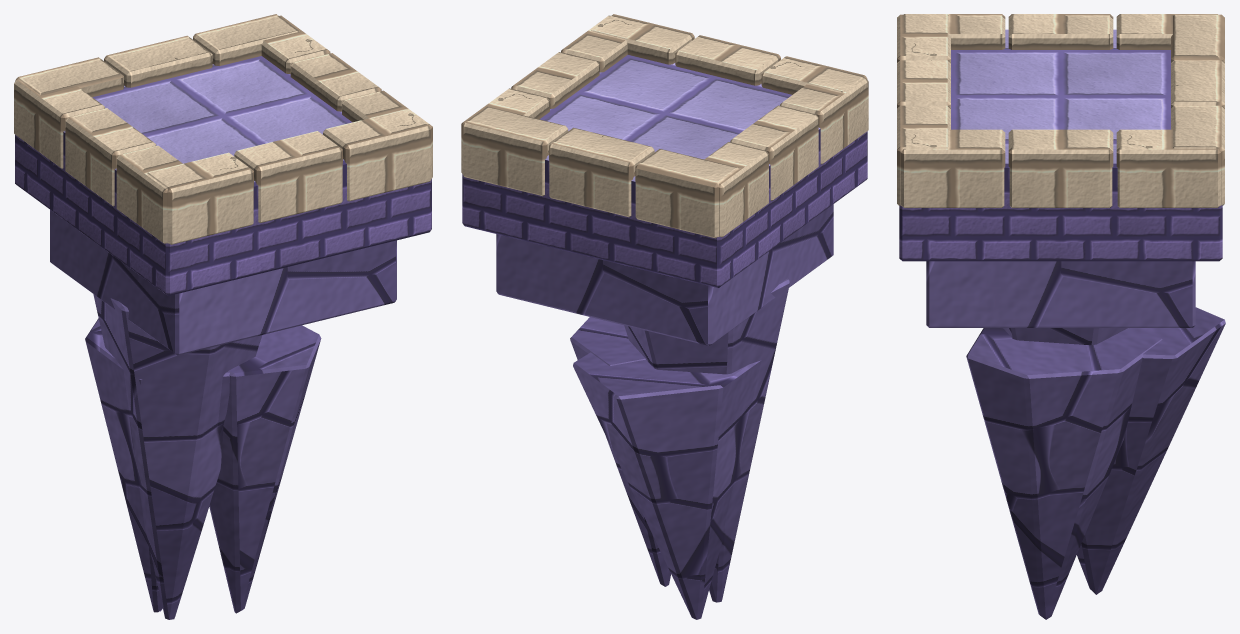
File: Bloque_Pequeno.fbx
The picture shows the model from 3 angles, left to right: view 1: azimuth 30°, elevation 25°; view 2: azimuth 150°, elevation 25°; view 3: azimuth 270°, elevation 25°; orthographic projection. The views are drawn at different scales.
Parts seen in each view (by area): view 1: Mod_Bloque_Pequeno; view 2: Mod_Bloque_Pequeno; view 3: Mod_Bloque_Pequeno.
Boxes of the visible parts, x1=… form: Mod_Bloque_Pequeno: x1=14, y1=14, x2=432, y2=619; Mod_Bloque_Pequeno: x1=461, y1=14, x2=868, y2=619; Mod_Bloque_Pequeno: x1=897, y1=14, x2=1225, y2=619.
Size of the model in its own units: 3.04 by 5.5 by 3.05.
